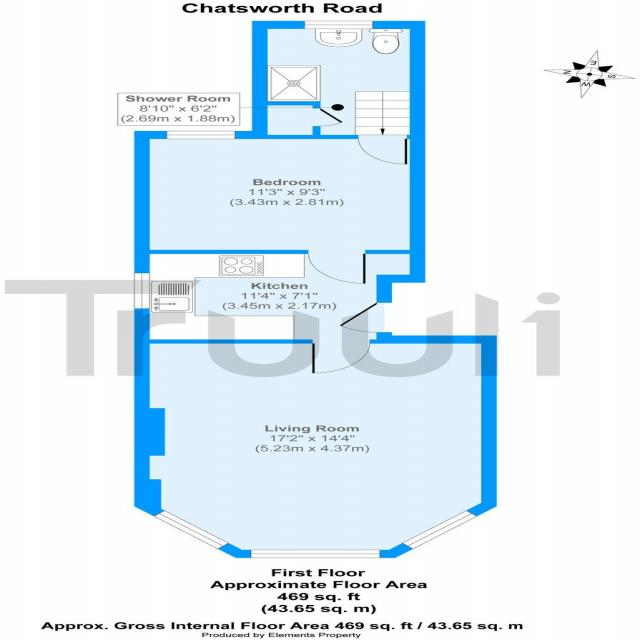DOOR: (305, 250, 368, 284), (311, 339, 372, 374), (356, 135, 410, 165), (336, 301, 380, 334)
ROOM: (133, 332, 497, 559), (134, 131, 425, 285), (135, 250, 425, 374)
WINDOW: (151, 509, 231, 550), (401, 510, 479, 551), (249, 549, 382, 559), (302, 20, 376, 30), (165, 130, 237, 140), (133, 271, 151, 310)
